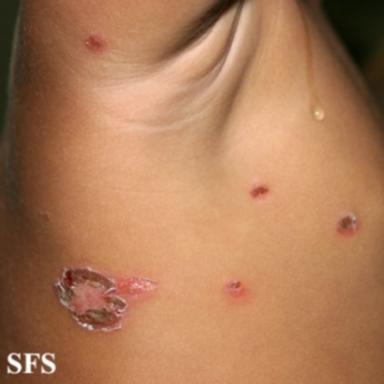Impetigo: (54, 267, 157, 334), (337, 213, 359, 236), (85, 34, 107, 53), (224, 279, 246, 297), (250, 182, 269, 199)
